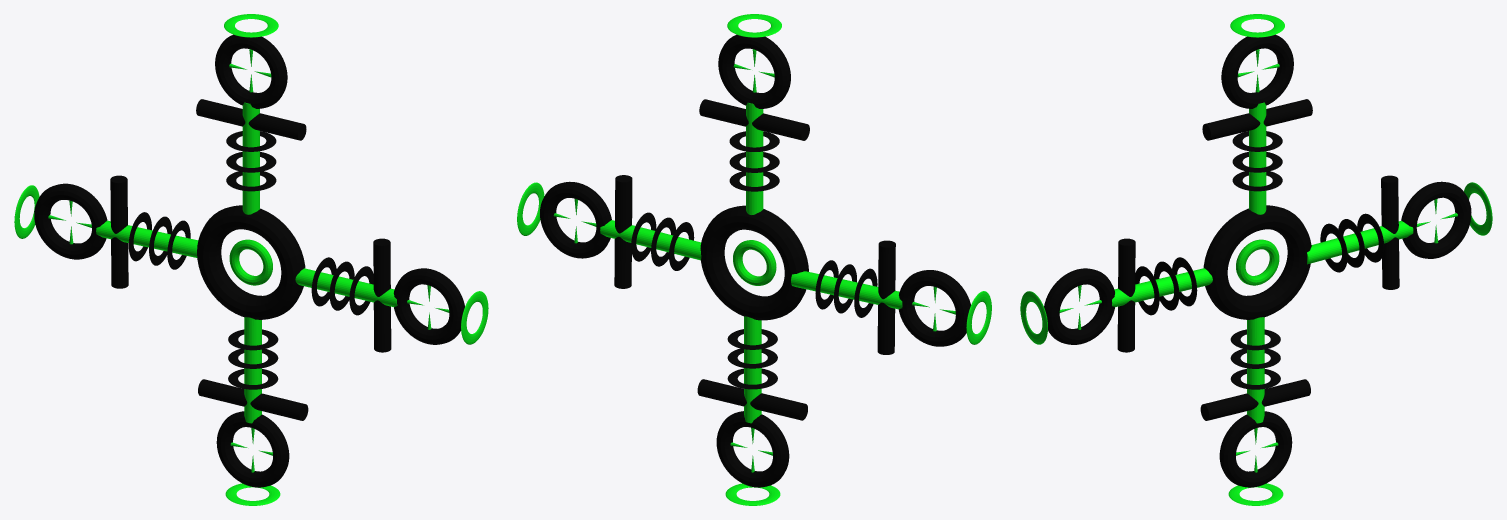
The model's file is Enemy__SlowBullet.fbx.
The picture shows the model from 3 angles, left to right: view 1: azimuth 30°, elevation 25°; view 2: azimuth 210°, elevation 25°; view 3: azimuth 270°, elevation 25°; orthographic projection.
Visible parts, largest first — view 1: トーラス.005; view 2: トーラス.005; view 3: トーラス.005.
Boxes of the visible parts, x1=… form: トーラス.005: x1=14, y1=14, x2=488, y2=505; トーラス.005: x1=517, y1=14, x2=991, y2=505; トーラス.005: x1=1020, y1=14, x2=1492, y2=505.
Bounding box in the file's own units: 2148 × 3622 × 3298.
